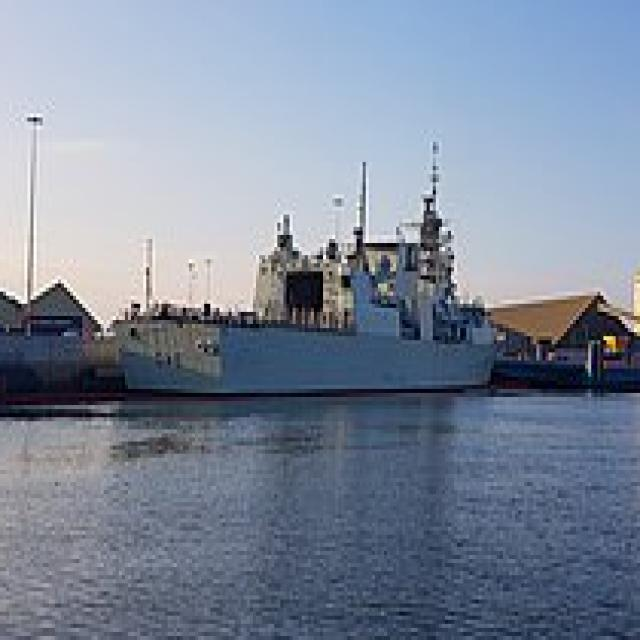Warship: (116, 130, 509, 397)
